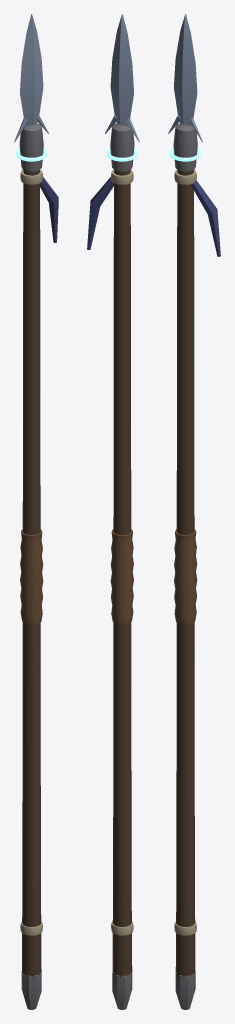
The model's file is corsair_harpoon.glb.
The picture shows the model from 3 angles, left to right: view 1: azimuth 30°, elevation 25°; view 2: azimuth 150°, elevation 25°; view 3: azimuth 330°, elevation 25°; orthographic projection.
Visible parts, largest first — view 1: corsair_harpoon; view 2: corsair_harpoon; view 3: corsair_harpoon.
Part boxes in pixels (bbox=[...]): corsair_harpoon: bbox=[14, 14, 58, 1009]; corsair_harpoon: bbox=[87, 14, 139, 1009]; corsair_harpoon: bbox=[168, 14, 220, 1009].
Size of the model in its own units: 0.1111 by 2.21 by 0.0642.
